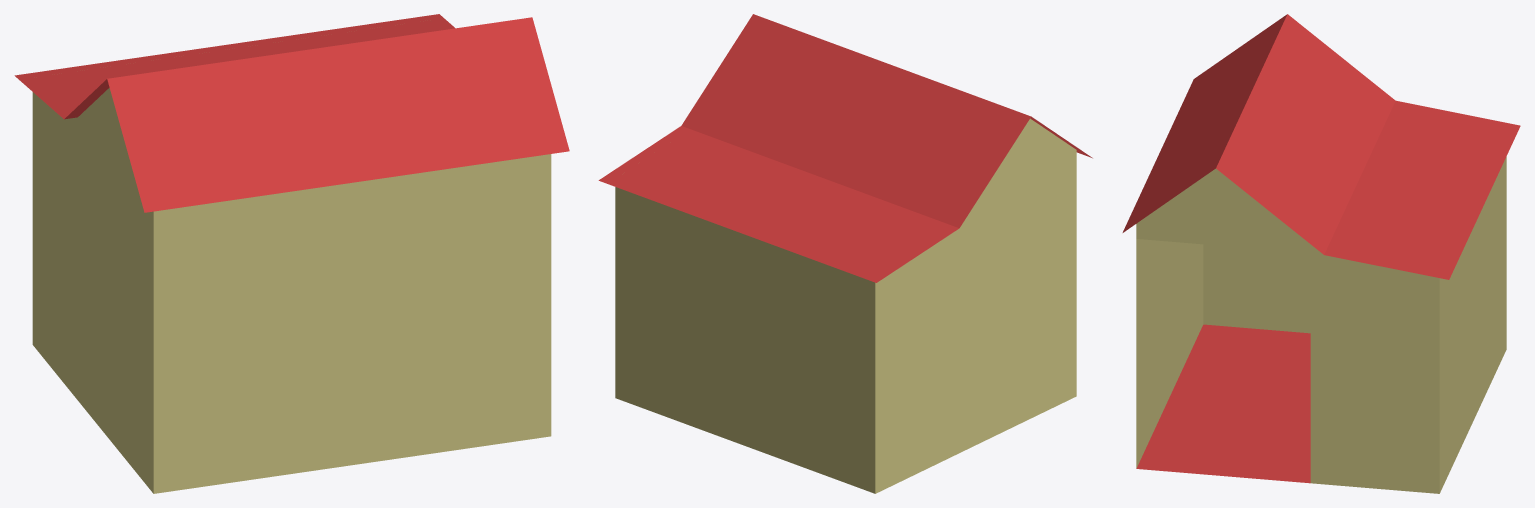
3 views of the same model, side by side, from view 1: azimuth 30°, elevation 25°; view 2: azimuth 150°, elevation 25°; view 3: azimuth 270°, elevation 25° (orthographic). The views are drawn at different scales.
Size of the model in its own units: 8.87 by 8.23 by 7.11.
